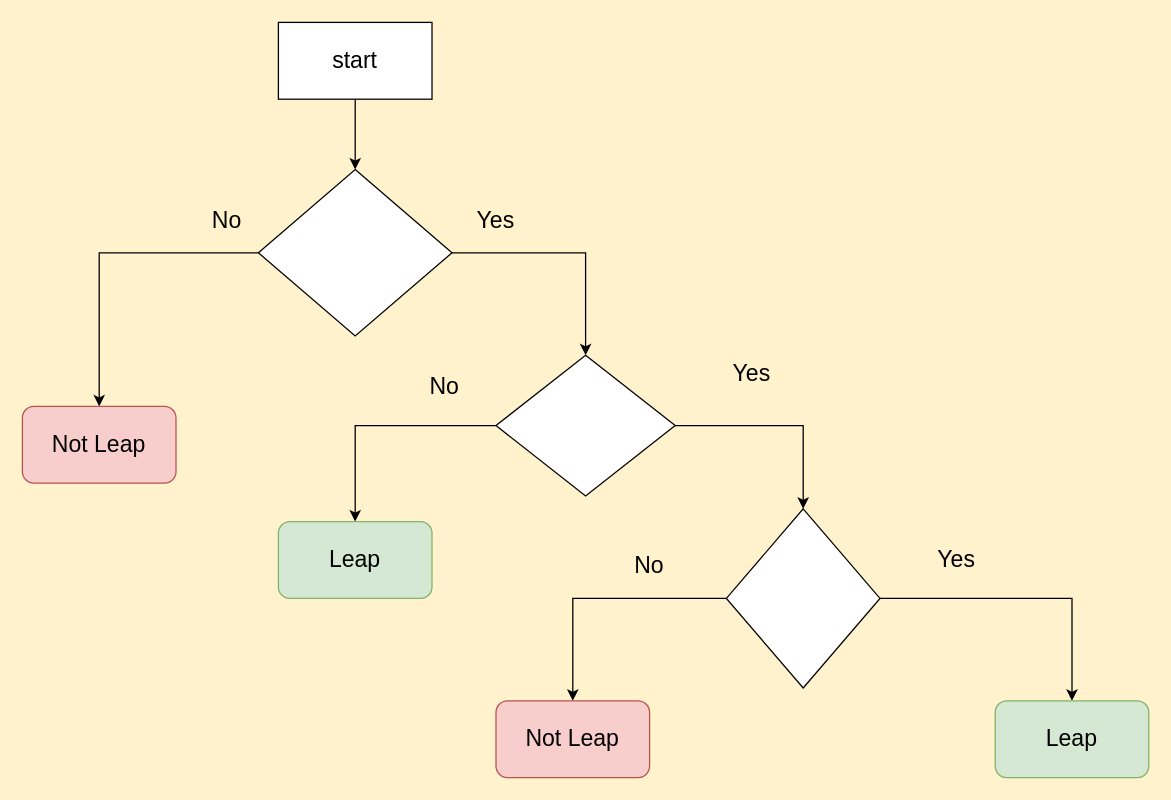
Some shapes in this 1171 by 800 pixel diagram are drawn without their labels. Here are the shapes that lost their labels. From the top down, the box of each, then its label:
(257, 168, 452, 336): divisible by 4 rem = 0
(495, 354, 675, 496): divisible by 100?
(725, 508, 880, 688): divisible by 400
